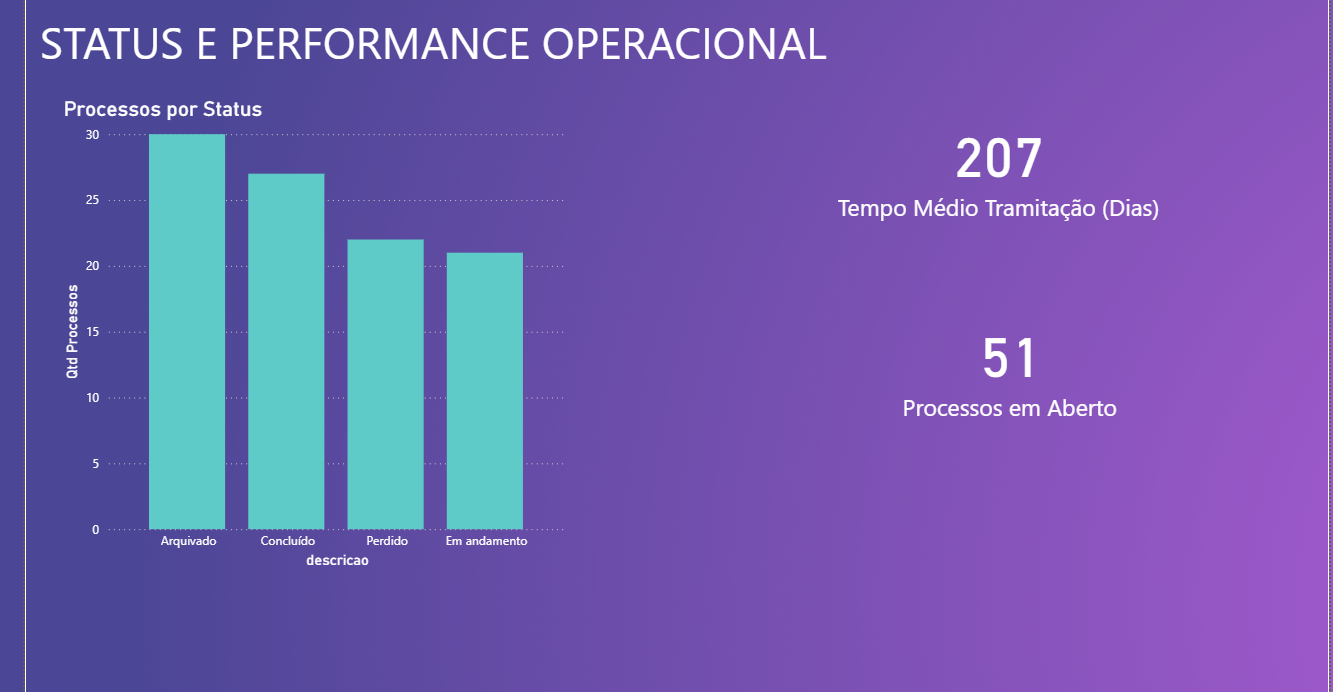

The dashboard page shown, as its layout file describes it:
{"tool":"powerbi","page":{"name":"STATUS E PERFORMANCE","canvas":[1280,720],"ordinal":3},"visuals":[{"type":"textbox","box":[9.8,22.1,804.9,78.5],"z":0},{"type":"columnChart","title":"Processos por Status","fields":{"Y":["public processo.Qtd Processos"],"Category":["public status_processo.descricao"]},"box":[33.1,110.4,503.1,468.7],"z":1000},{"type":"card","fields":{"Values":["public processo.Processos em Aberto"]},"box":[779.1,110.4,353.4,136.2],"z":2000},{"type":"card","fields":{"Values":["public processo.Processos em Aberto"]},"box":[715.3,300.6,503.1,149.7],"z":3000}]}

Visuals, with their boxes on the page's 1280x720 design canvas (x1, y1, x2, y2). These are canvas units, not pixel positions in the 1333x692 screenshot, which may show the page scaled, cropped or inside an application window:
textbox: 10 22 815 101
"Processos por Status" columnChart: 33 110 536 579
card - public processo.Processos em Aberto: 779 110 1132 247
card - public processo.Processos em Aberto: 715 301 1218 450
